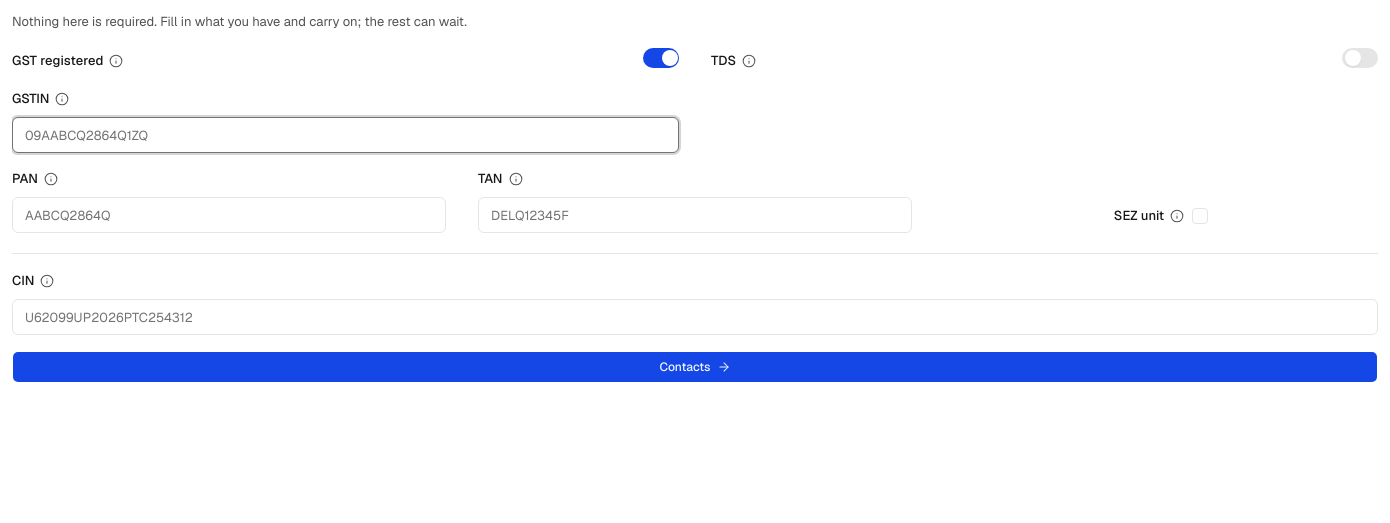
Test: the India branch › offers the entity type the CIN states, and applies it only when accepted
In the field labelled "CIN": (695, 317) [12,299,1378,335], type "L62099UP2026PLC254312"
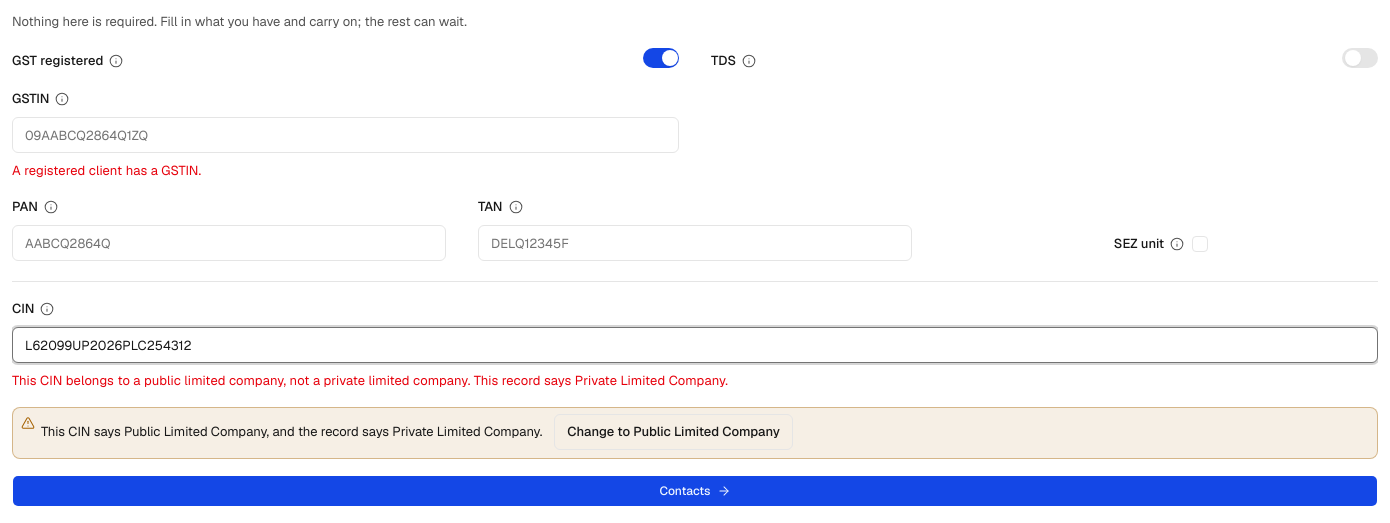
Click the button "Change to Public Limited Company": (674, 432) [554,414,793,450]
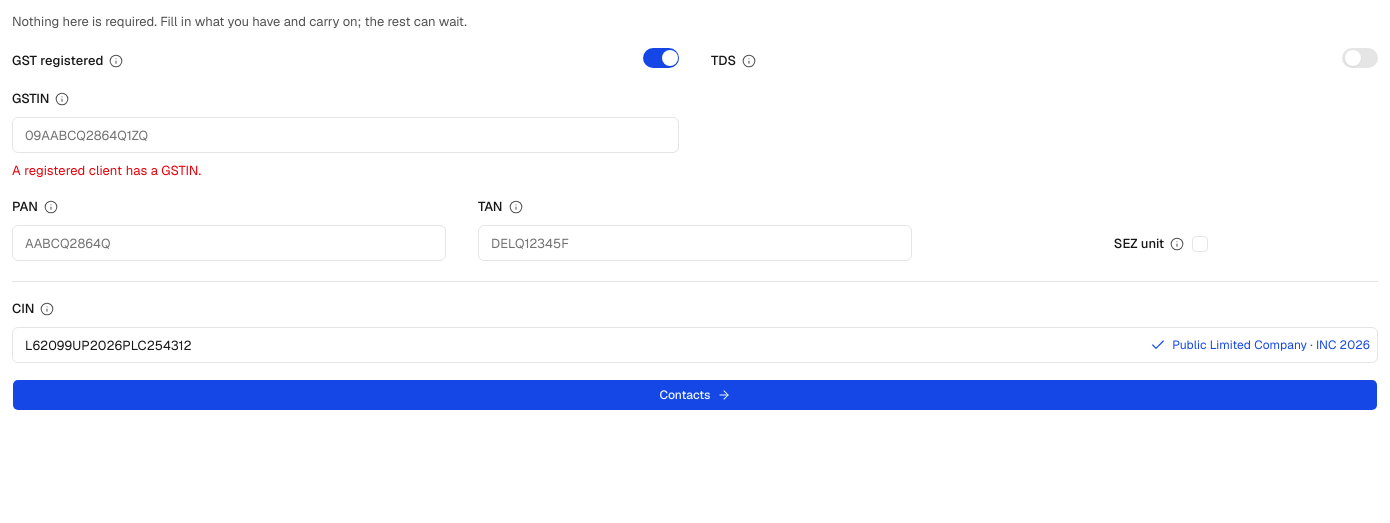
Expected: the button "Change to" is gone
Expected: the text "belongs to a public limited company, not a private limited" is gone
